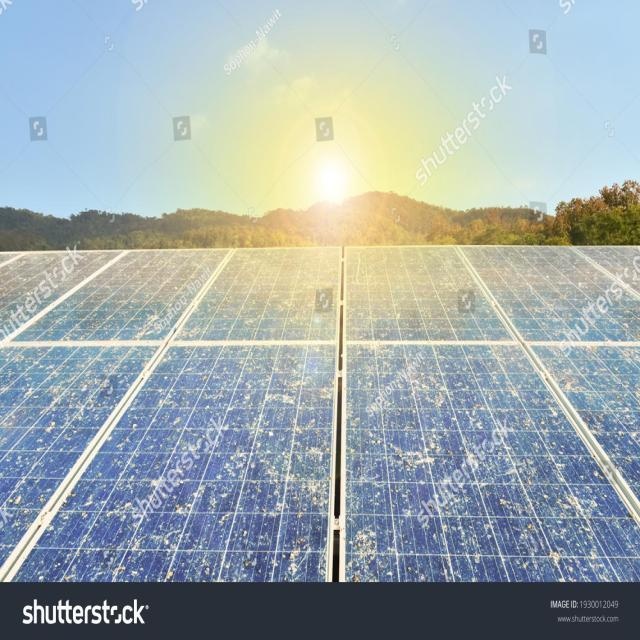soiled: (1, 252, 639, 580)
